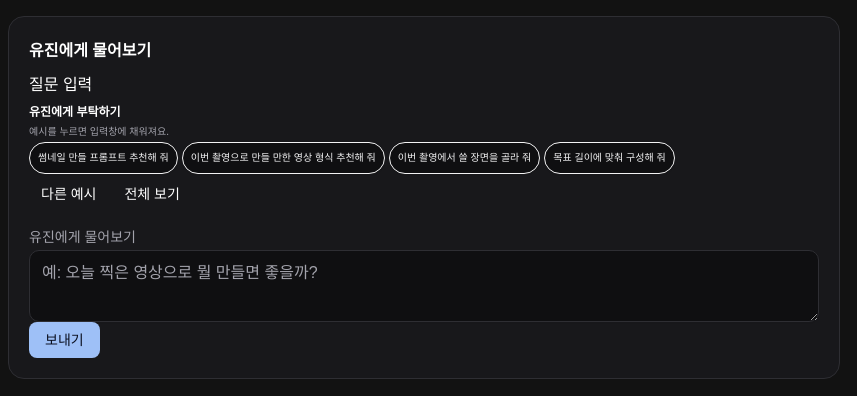
Test: HomeYujinChat › fills the home composer from a starter without sending
Click the button "이번 촬영으로 만들 만한 영상 형식 추천해 줘" at [283, 158], box [182,142,385,174]
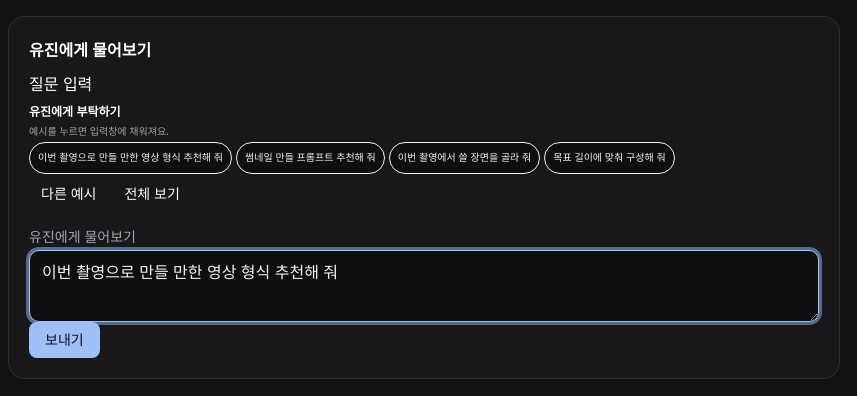
Check: the text box labelled "유진에게 물어보기" holds "이번 촬영으로 만들 만한 영상 형식 추천해 줘", box [29,250,819,322]
